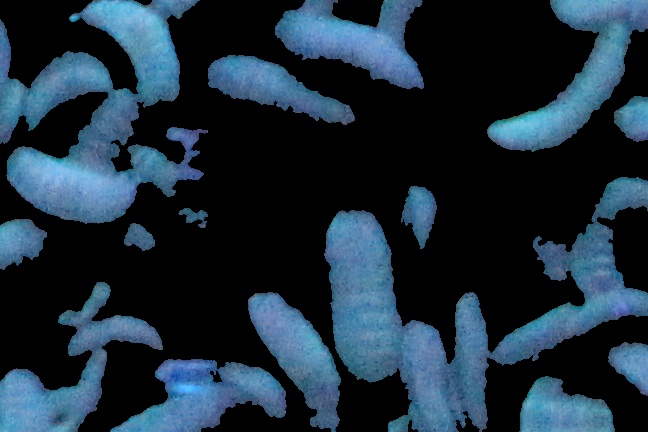larvae: (322, 211, 402, 380), (250, 290, 342, 428), (275, 15, 430, 88), (75, 1, 180, 102), (204, 56, 356, 124), (1, 150, 149, 218), (478, 78, 597, 156), (1, 223, 183, 271), (580, 177, 648, 287), (22, 49, 114, 129), (449, 292, 496, 429), (65, 92, 141, 173), (399, 181, 448, 301), (493, 298, 580, 364), (533, 170, 576, 297), (404, 321, 454, 430), (568, 11, 634, 92), (513, 378, 615, 429), (215, 359, 290, 419), (60, 354, 112, 431), (565, 288, 648, 334), (113, 397, 219, 432), (1, 366, 50, 432), (66, 315, 158, 349)
